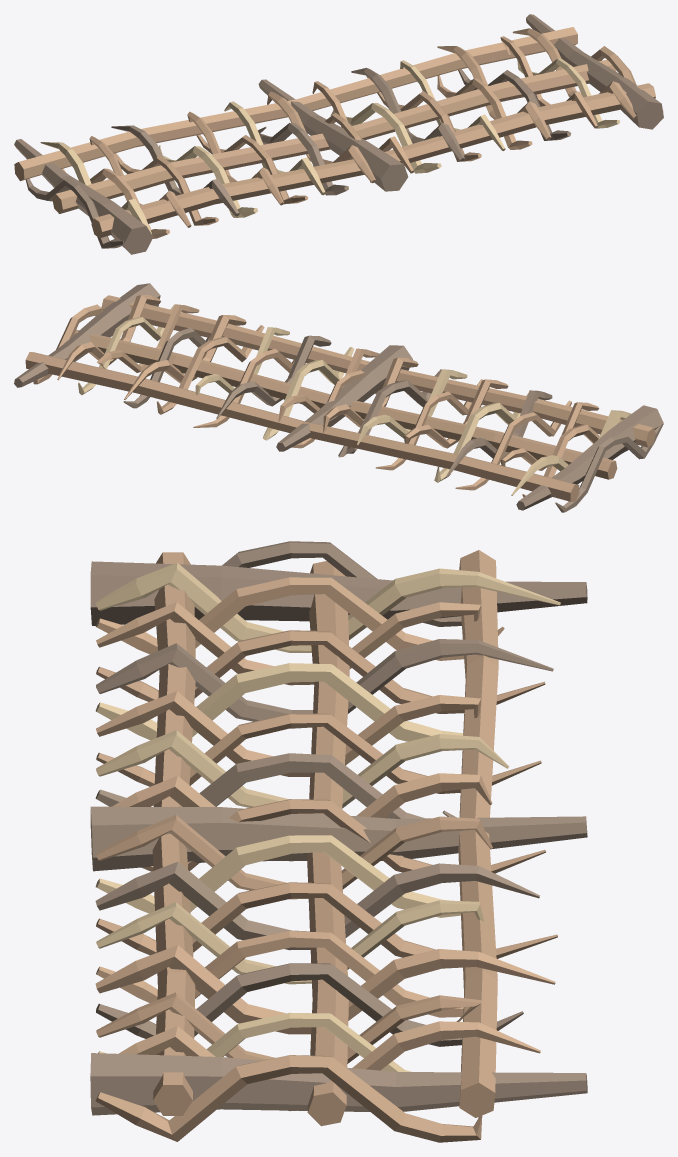
Rendered from Podlasie_Balas_Fence_Bialowieza.fbx.
The picture shows the model from 3 angles, top to bottom: view 1: azimuth 30°, elevation 25°; view 2: azimuth 150°, elevation 25°; view 3: azimuth 270°, elevation 25°; orthographic projection. The views are drawn at different scales.
Visible parts, largest first — view 1: Fence_Balas_Weave_25_Spruce_Branches; view 2: Fence_Balas_Weave_25_Spruce_Branches; view 3: Fence_Balas_Weave_25_Spruce_Branches.
Boxes of the visible parts, left/top/right/bottom form: Fence_Balas_Weave_25_Spruce_Branches: left=14, top=14, right=663, bottom=254; Fence_Balas_Weave_25_Spruce_Branches: left=14, top=283, right=663, bottom=512; Fence_Balas_Weave_25_Spruce_Branches: left=90, top=541, right=587, bottom=1142.
Size of the model in its own units: 3.1 by 0.2391 by 1.23.
